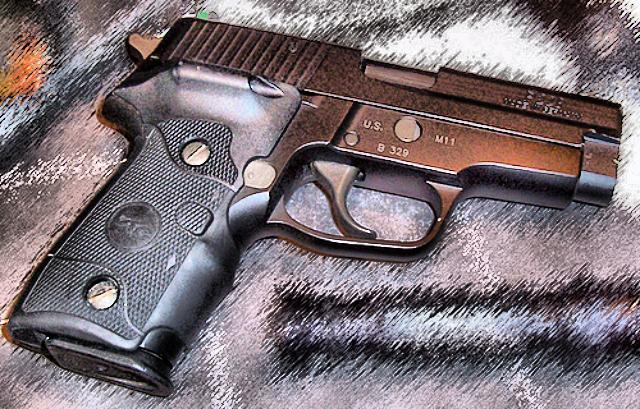pistol: (1, 15, 628, 396)
